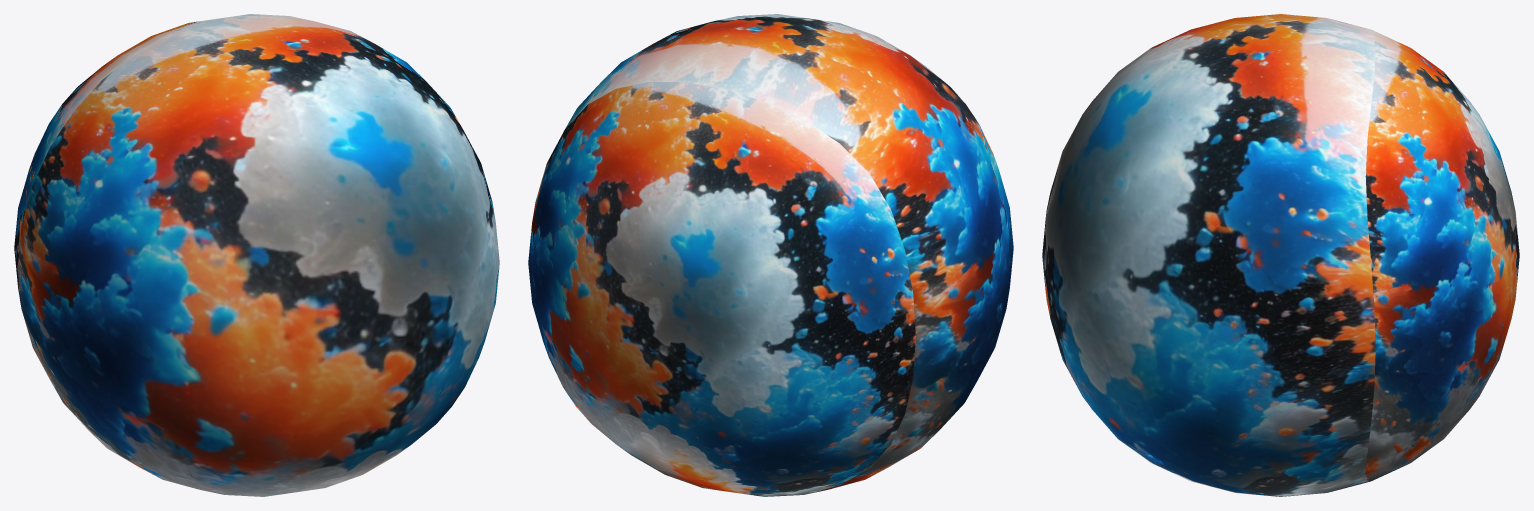
Rendered from asset.gltf.
3 renders of one model, left to right at view 1: azimuth 30°, elevation 25°; view 2: azimuth 150°, elevation 25°; view 3: azimuth 270°, elevation 25°, orthographic.
Visible parts, largest first — view 1: Cube; view 2: Cube; view 3: Cube.
Boxes of the visible parts, bbox=[...] form: Cube: bbox=[14, 14, 499, 496]; Cube: bbox=[528, 14, 1013, 496]; Cube: bbox=[1042, 14, 1519, 496].
Bounding box in the file's own units: 0.5001 × 0.5001 × 0.5001.
Materials: 1 (1 with a texture image).
